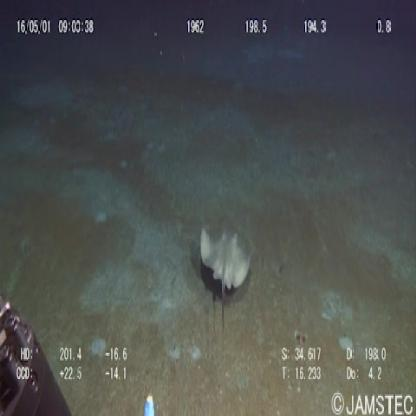Bio: (197, 222, 253, 342)
Rov: (1, 291, 71, 416)
